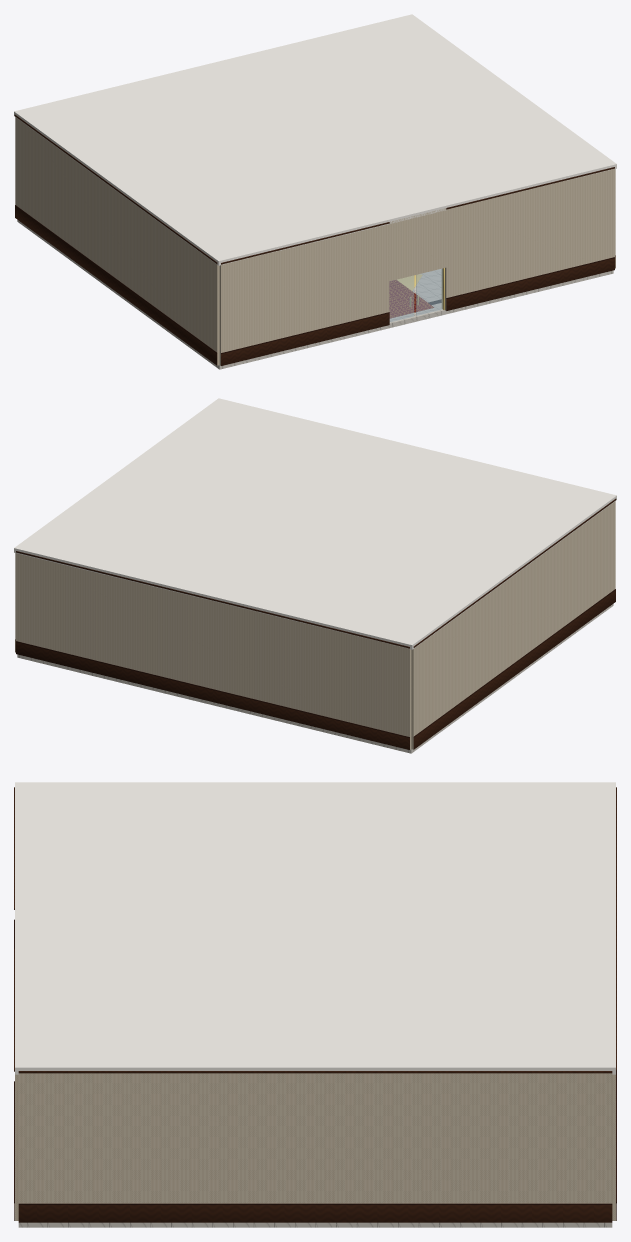
Rendered from hotel_building.glb.
The picture shows the model from 3 angles, top to bottom: view 1: azimuth 30°, elevation 25°; view 2: azimuth 150°, elevation 25°; view 3: azimuth 270°, elevation 25°; orthographic projection. The views are drawn at different scales.
Visible parts, largest first — view 1: Hotel_Walls-col, Hotel_MoldingsAndTrim, Hotel_Floor1-col, Hotel_GlassEntrance-col, Hotel_CarpetsAndInlays; view 2: Hotel_Walls-col, Hotel_MoldingsAndTrim, Hotel_Floor1-col; view 3: Hotel_Walls-col, Hotel_MoldingsAndTrim, Hotel_Floor1-col.
Part boxes in pixels (x1,y1,x2,y2): Hotel_Walls-col: [14, 14, 616, 365]; Hotel_MoldingsAndTrim: [14, 114, 615, 365]; Hotel_Floor1-col: [17, 220, 613, 369]; Hotel_GlassEntrance-col: [389, 268, 442, 321]; Hotel_CarpetsAndInlays: [389, 274, 441, 318]; Hotel_Walls-col: [14, 398, 616, 749]; Hotel_MoldingsAndTrim: [15, 498, 616, 749]; Hotel_Floor1-col: [17, 604, 613, 753]; Hotel_Walls-col: [15, 782, 615, 1220]; Hotel_MoldingsAndTrim: [14, 787, 616, 1222]; Hotel_Floor1-col: [18, 1222, 612, 1227].
Size of the model in its own units: 36.49 by 9.6 by 32.49.
Materials: 28 (7 with a texture image).
